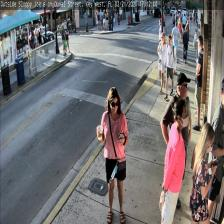person: (96, 88, 128, 224), (160, 73, 192, 208), (158, 98, 190, 224), (189, 122, 218, 224)
